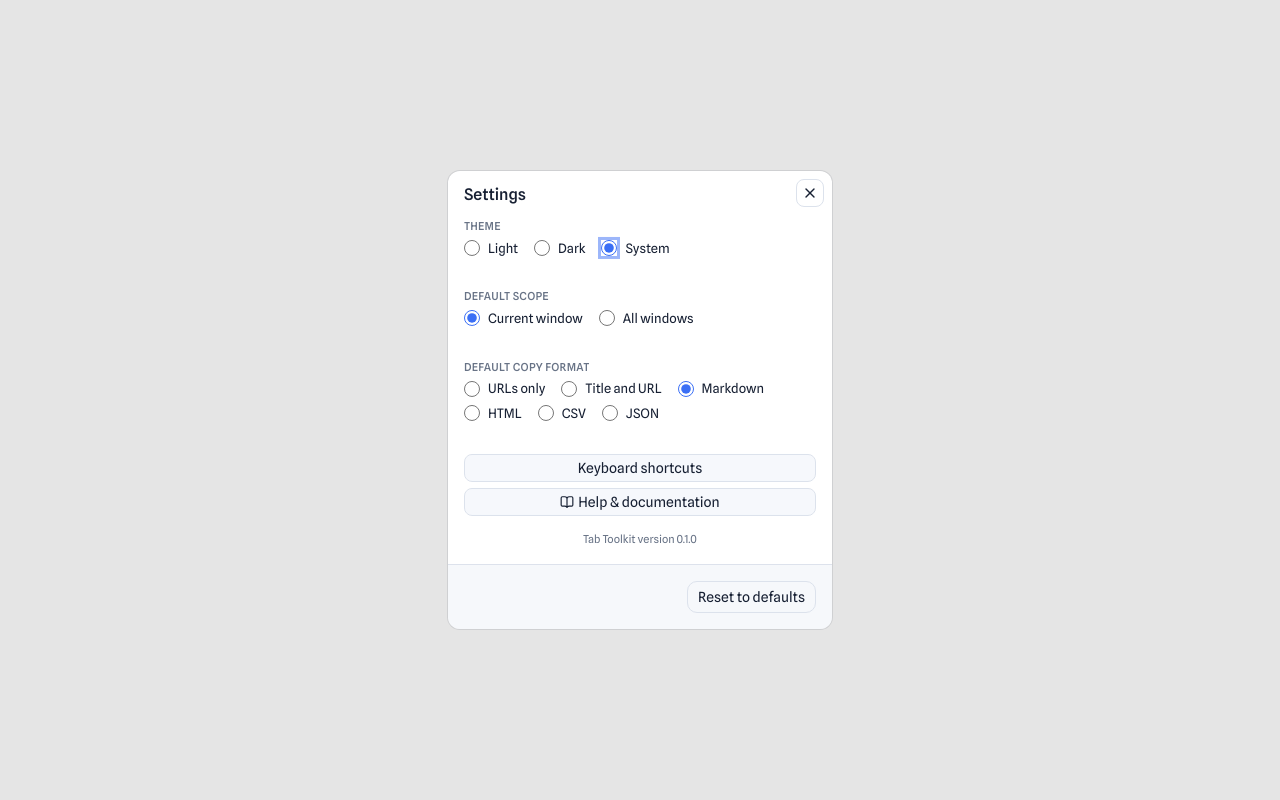
SettingsDialog › resets every changed field to exact defaults
Expected: the radio button labelled "System" is shown, [601,240,617,256]
Click the radio button labelled "Dark" at (542, 248), box [534,240,550,256]
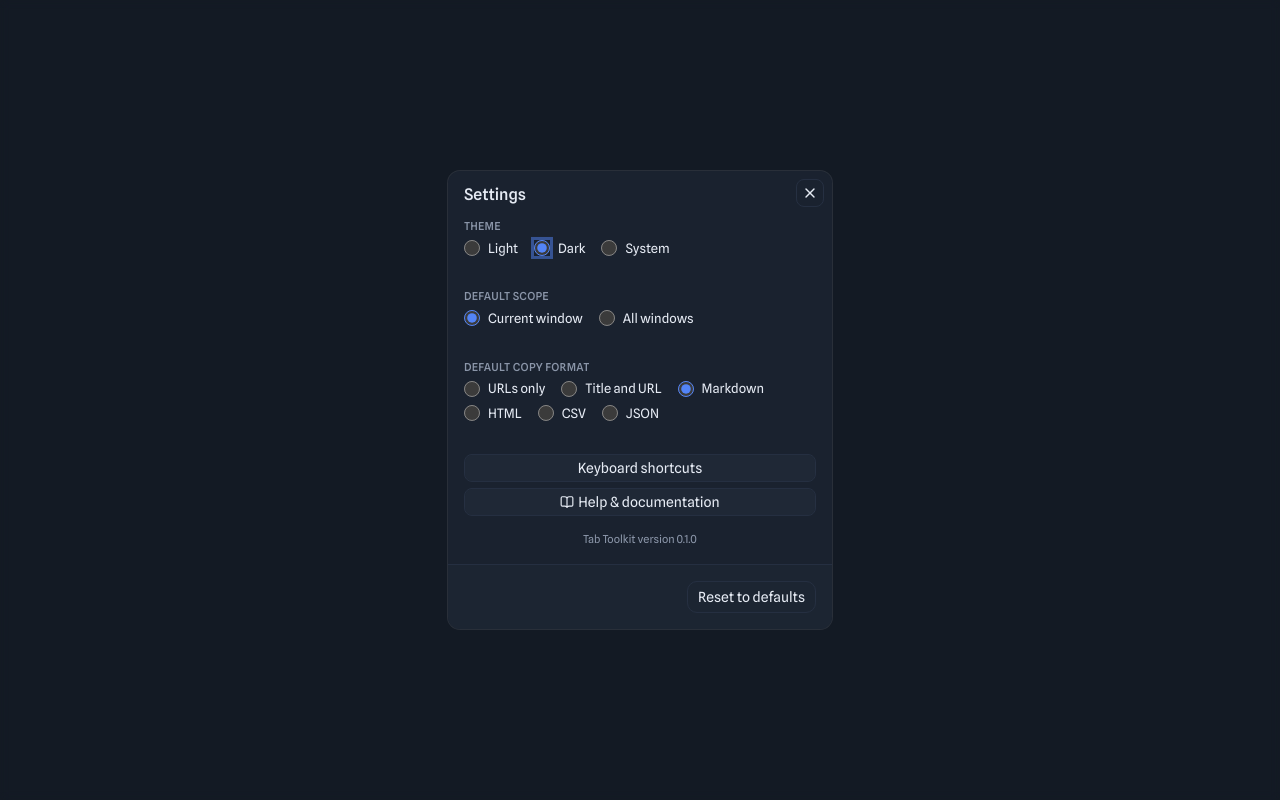
Click the radio button labelled "All windows" at (607, 318), box [599,310,615,326]
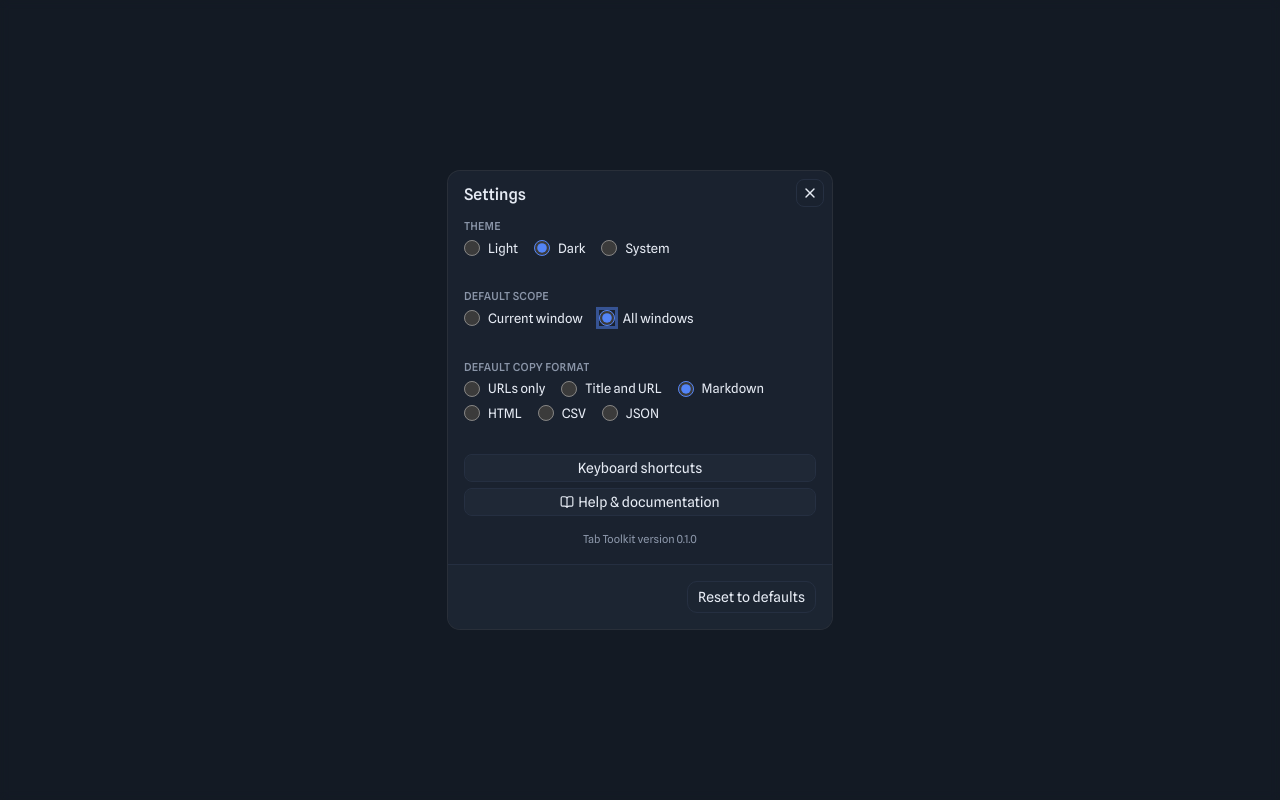
Click the radio button labelled "CSV" at (546, 413), box [538,405,554,421]
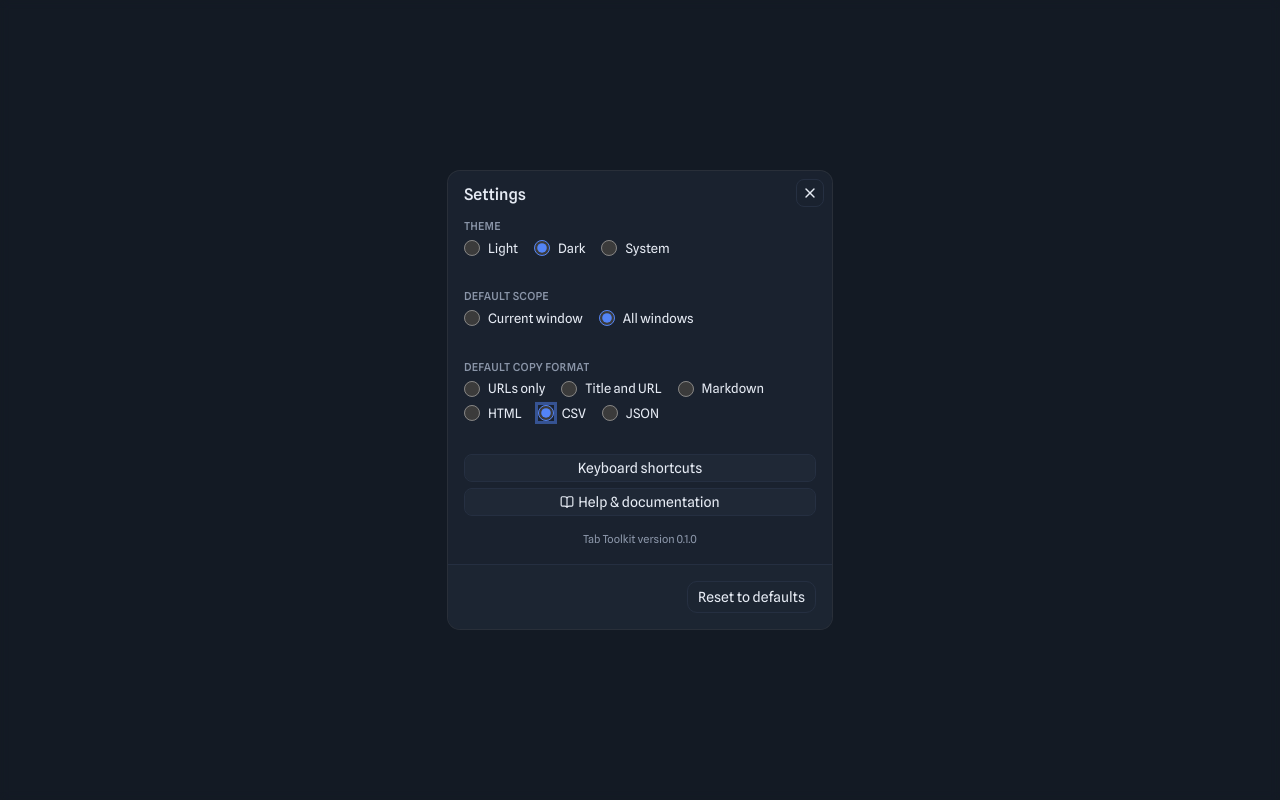
Click the button "Reset to defaults" at (752, 597), box [687,581,816,613]
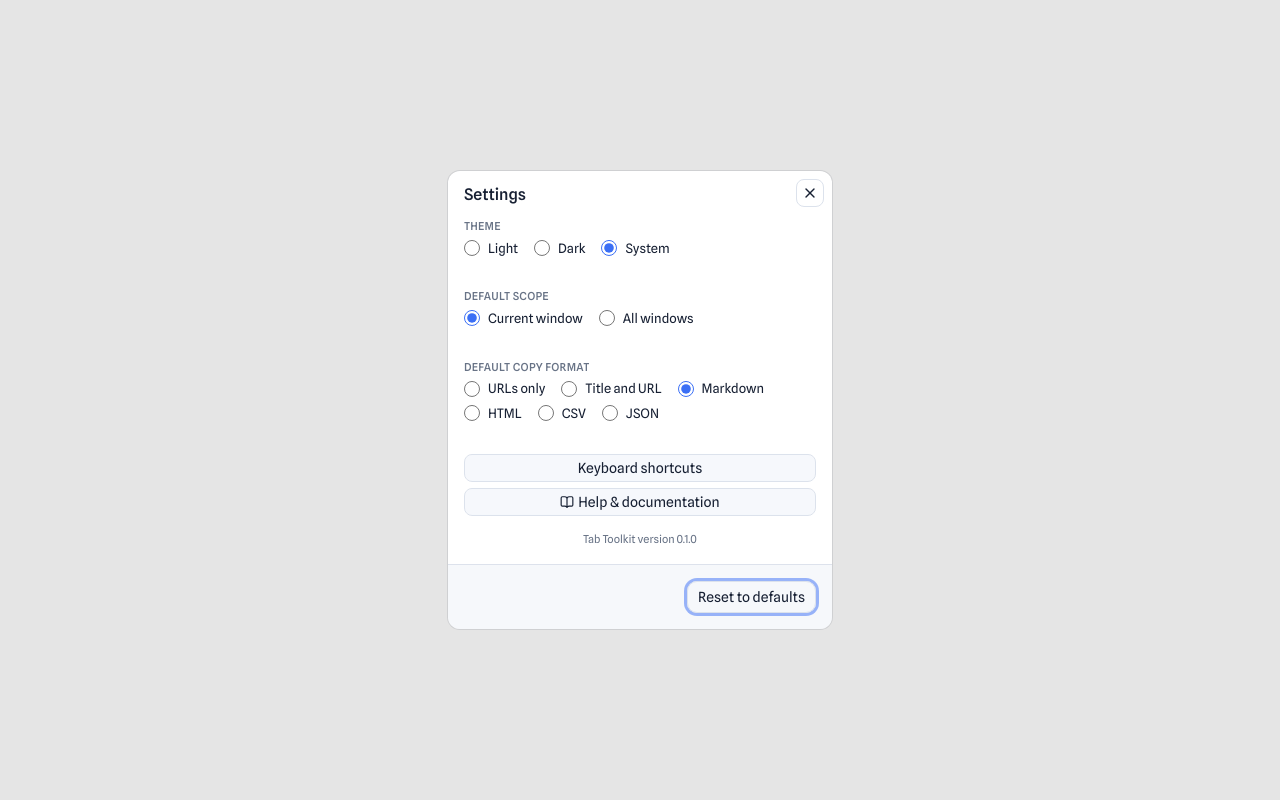
Now the radio button labelled "System" is checked, box [601,240,617,256]
Now the radio button labelled "Current window" is checked, box [464,310,480,326]
Now the radio button labelled "Markdown" is checked, box [678,380,694,396]
